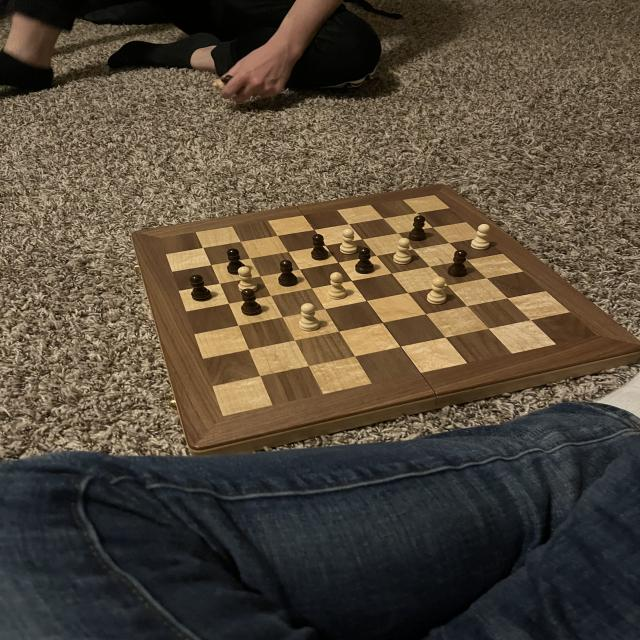black-knight: (238, 289, 264, 317), (447, 249, 471, 279), (189, 274, 213, 303), (354, 247, 377, 276), (276, 259, 298, 289), (407, 214, 430, 242), (309, 233, 330, 263), (225, 247, 246, 277)
white-knight: (324, 270, 350, 302), (297, 302, 324, 332), (469, 223, 493, 252), (425, 277, 448, 306), (237, 265, 259, 294), (392, 238, 414, 266), (337, 228, 358, 256)
